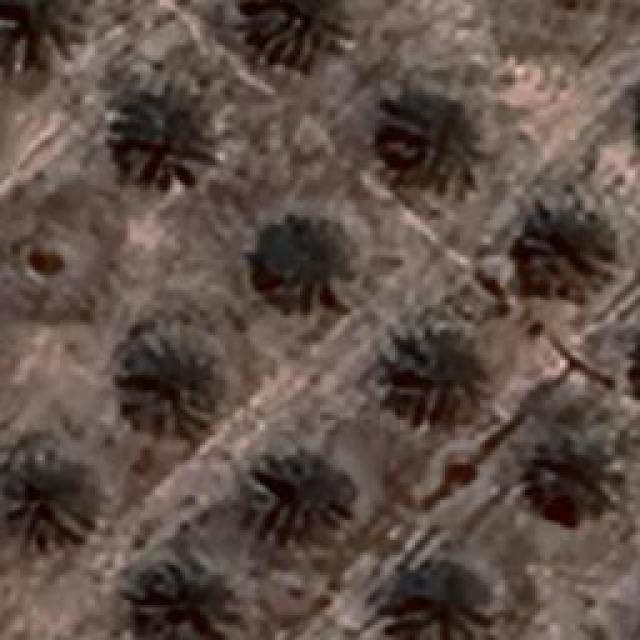PalmTree: (112, 80, 212, 182), (252, 210, 352, 308), (380, 95, 482, 190), (382, 320, 480, 415), (389, 557, 499, 640), (123, 340, 220, 432), (252, 452, 352, 538), (141, 562, 249, 640), (0, 457, 92, 547), (520, 207, 612, 295), (534, 437, 626, 515), (245, 0, 352, 62), (0, 0, 87, 62)
